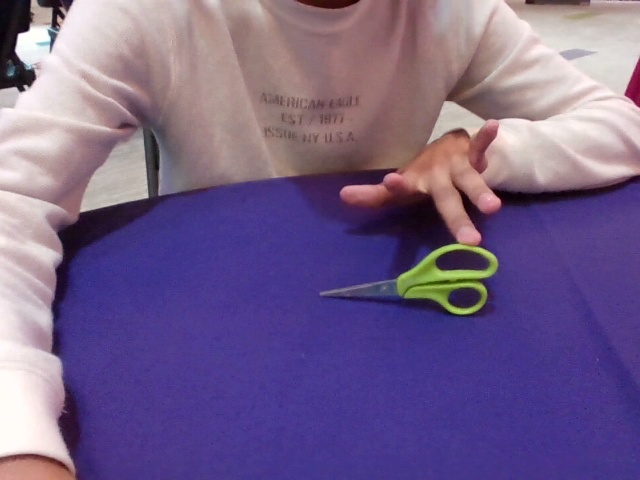tijeras: (318, 189, 499, 317), (319, 244, 499, 317)
